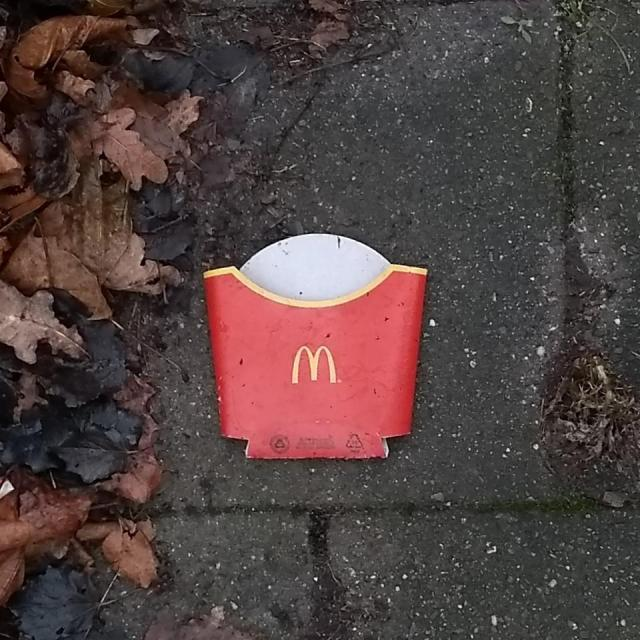Paper: (199, 229, 430, 463)
